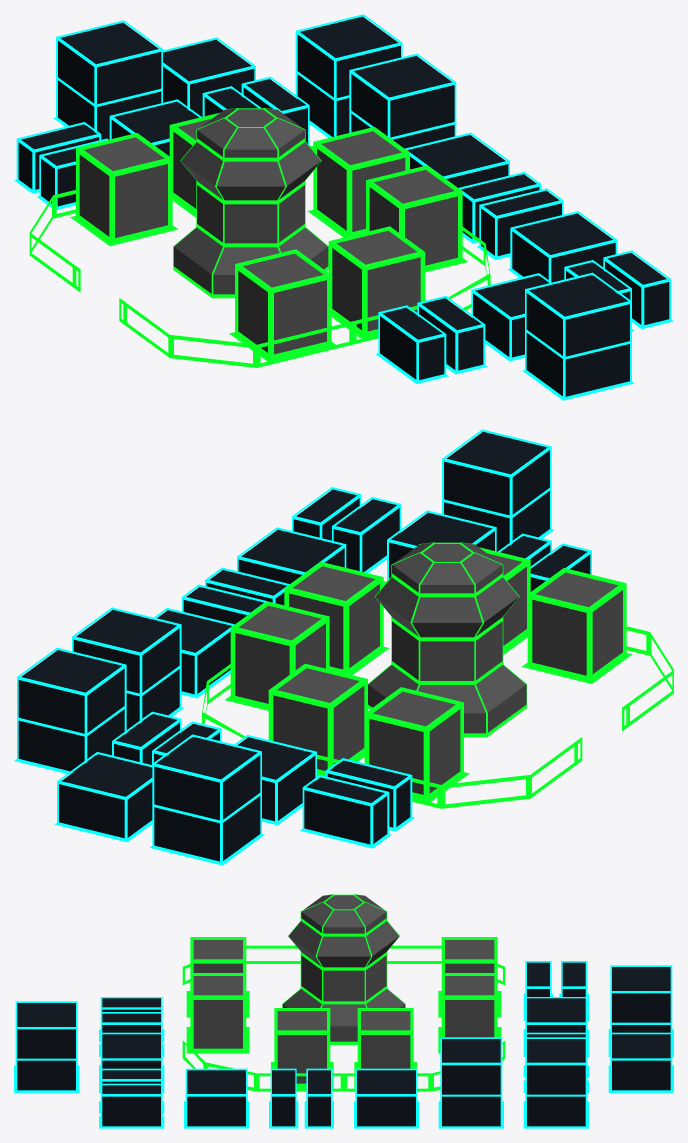
The model's file is envClutter.glb.
3 renders of one model, top to bottom at view 1: azimuth 30°, elevation 25°; view 2: azimuth 150°, elevation 25°; view 3: azimuth 270°, elevation 25°, orthographic. The views are drawn at different scales.
Visible parts, largest first — view 1: clutter_buildings, clutter_base; view 2: clutter_buildings, clutter_base; view 3: clutter_buildings, clutter_base.
Boxes of the visible parts, bbox=[...] form: clutter_buildings: bbox=[14, 14, 673, 400]; clutter_base: bbox=[29, 108, 490, 367]; clutter_buildings: bbox=[14, 429, 591, 865]; clutter_base: bbox=[202, 542, 673, 808]; clutter_buildings: bbox=[14, 961, 673, 1128]; clutter_base: bbox=[182, 894, 505, 1091].
Bounding box in the file's own units: 4.06 × 1.44 × 6.99.
